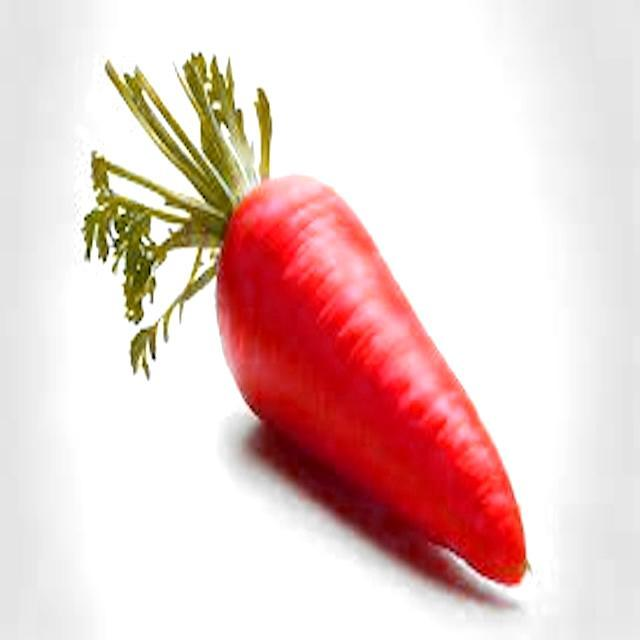carrot: (84, 54, 528, 584)
